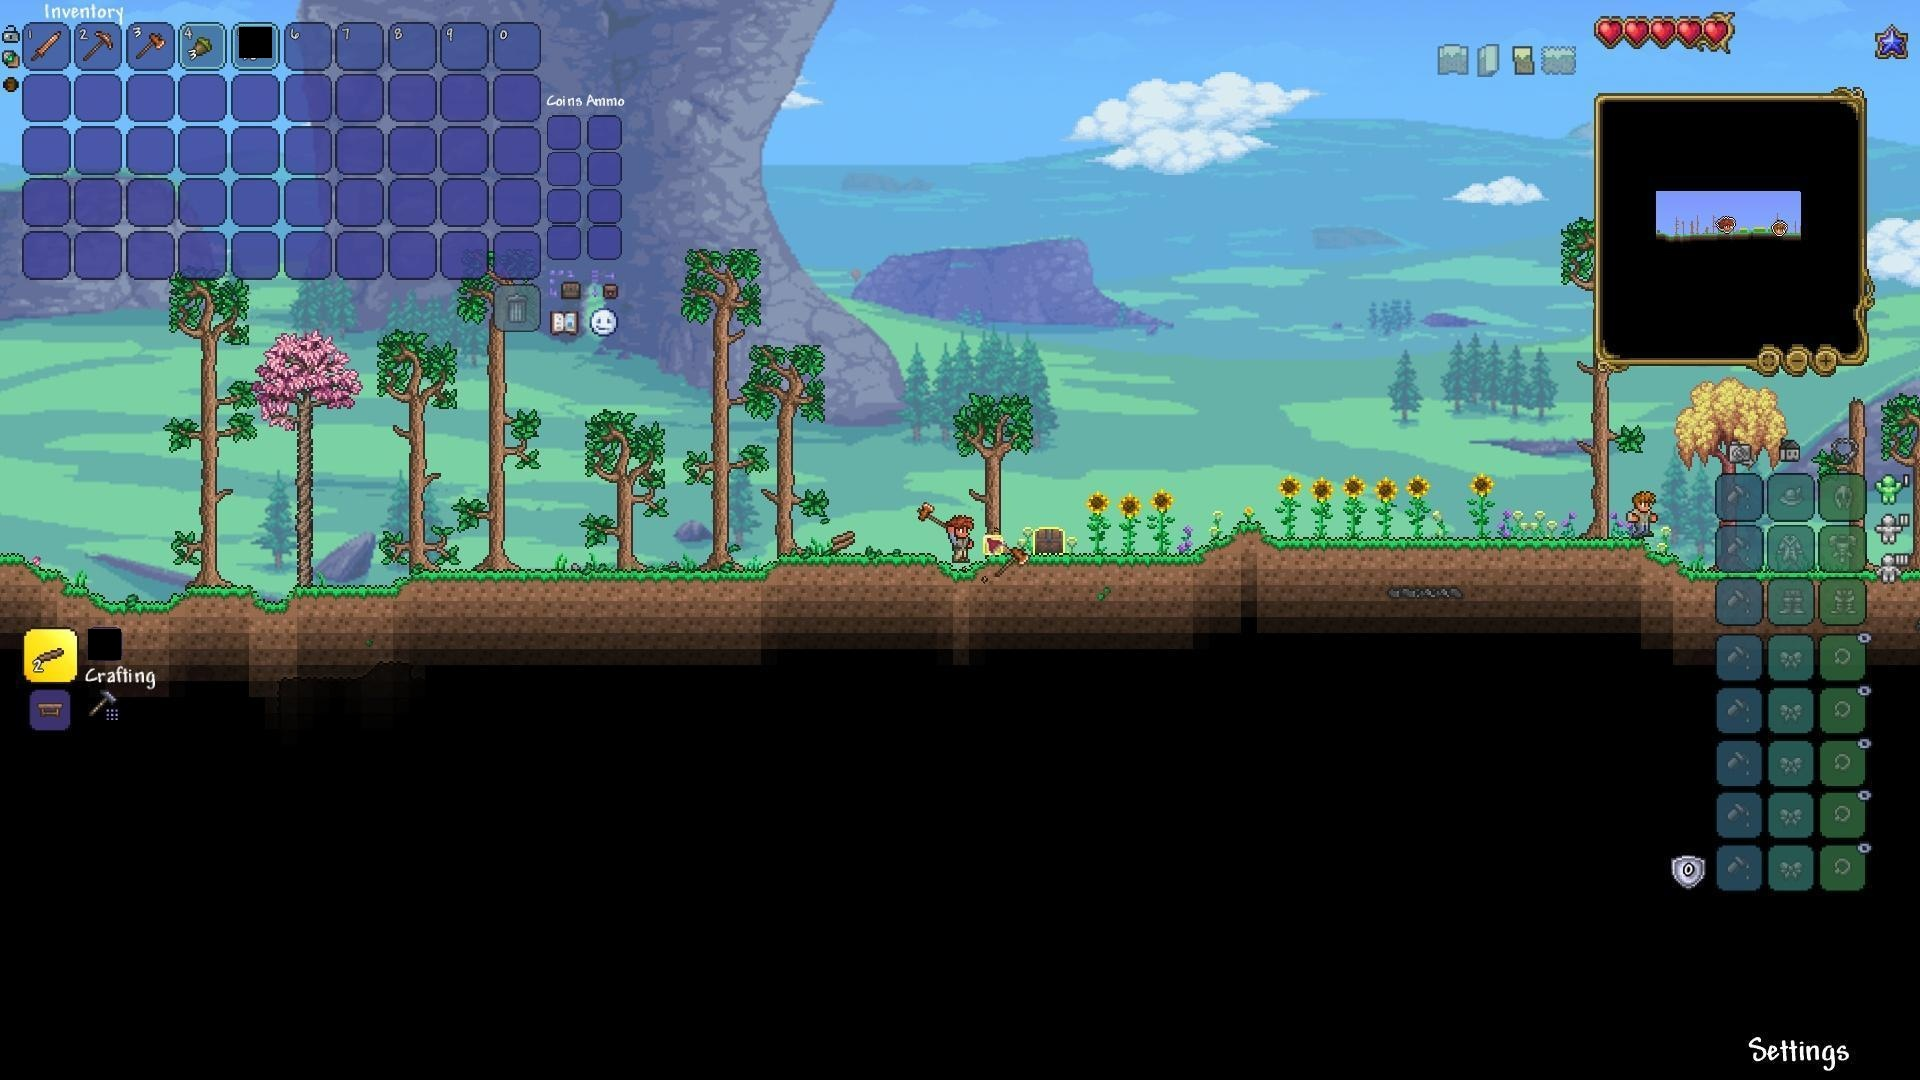wood: (827, 526, 858, 556)
workbench: (33, 698, 66, 721)
